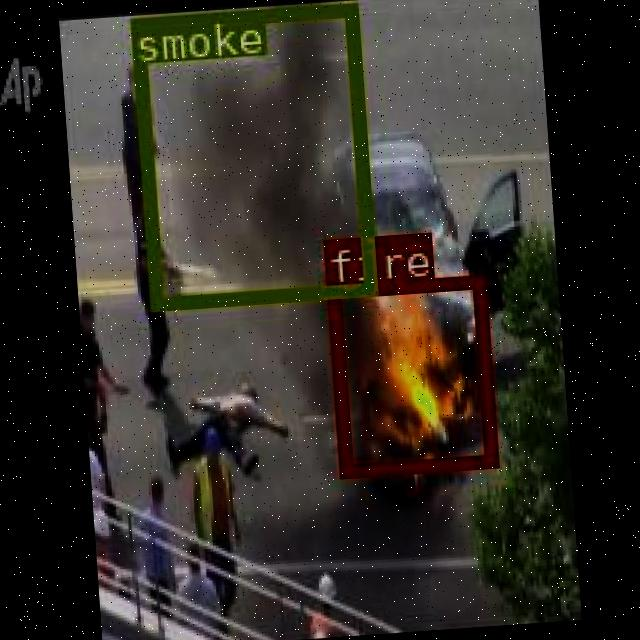fire: (326, 272, 494, 476)
smoke: (128, 1, 374, 308)
